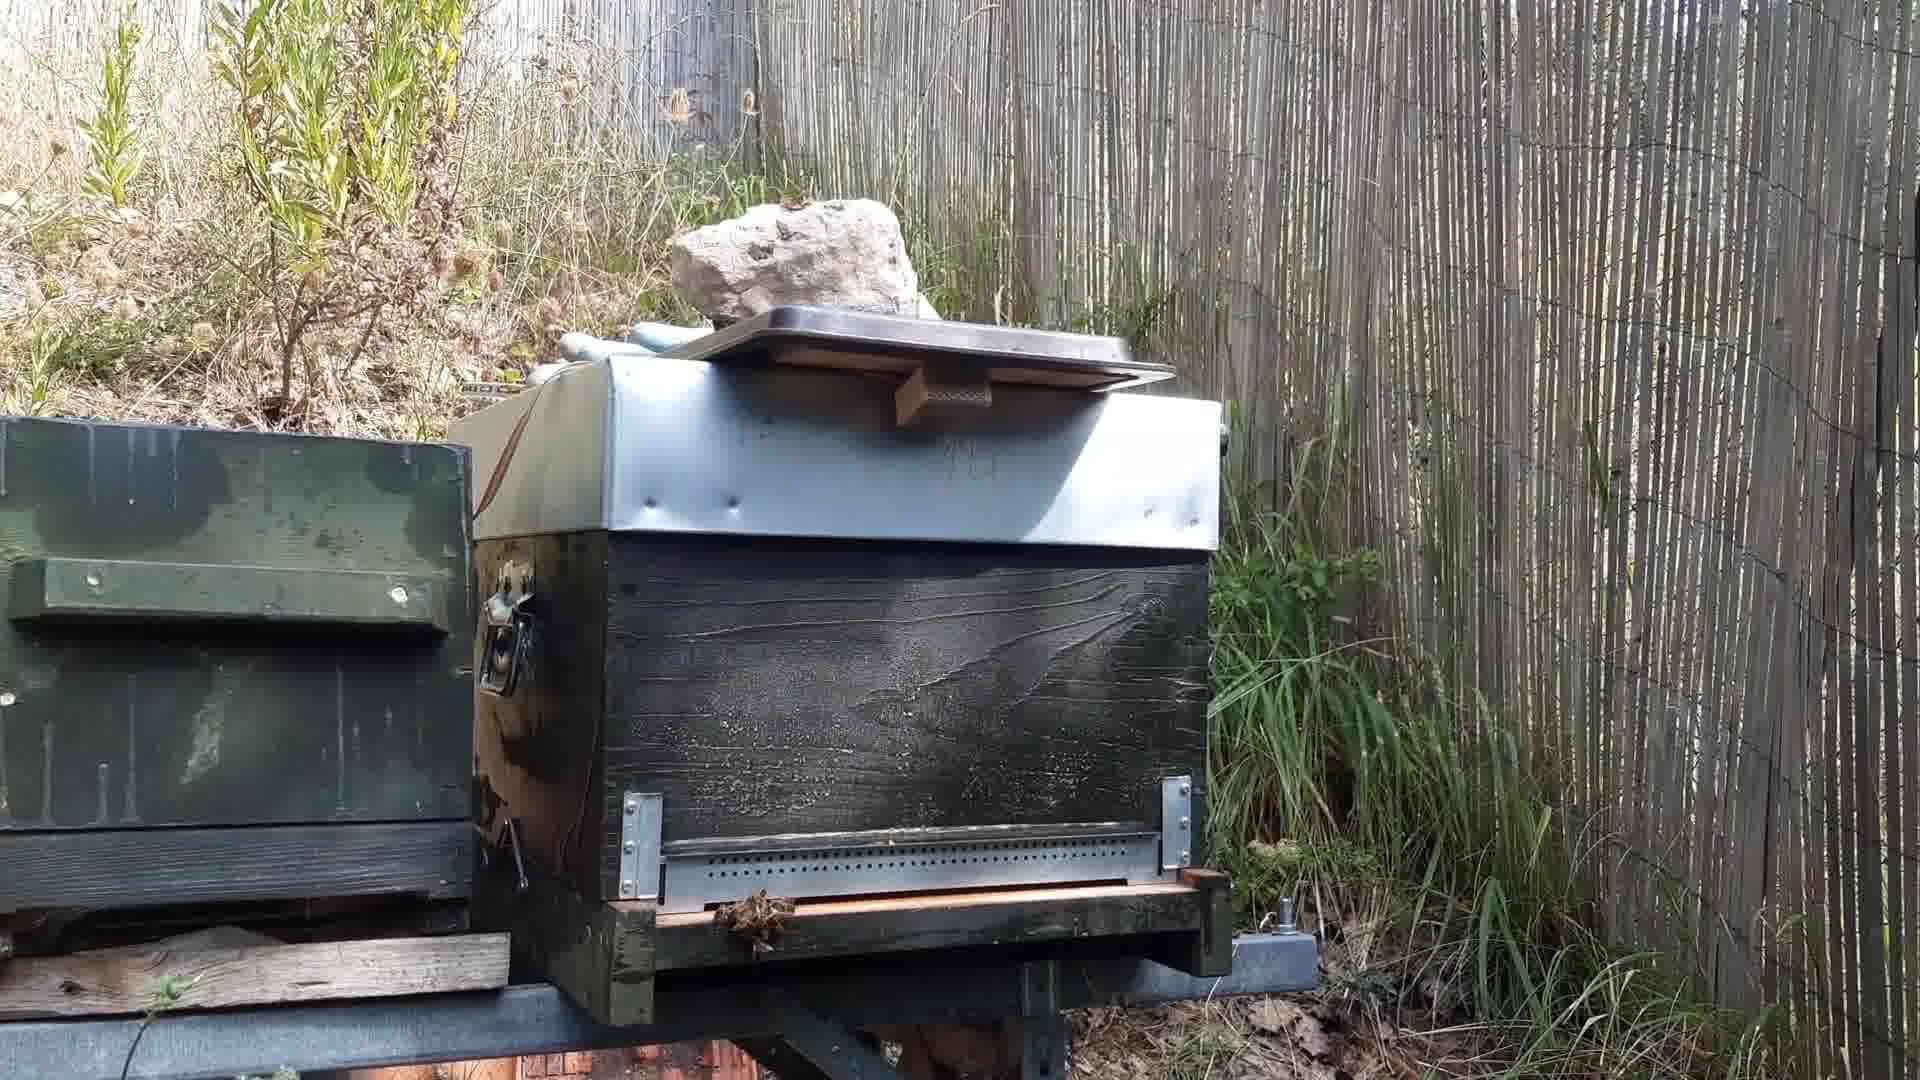bee: (711, 890, 799, 963)
